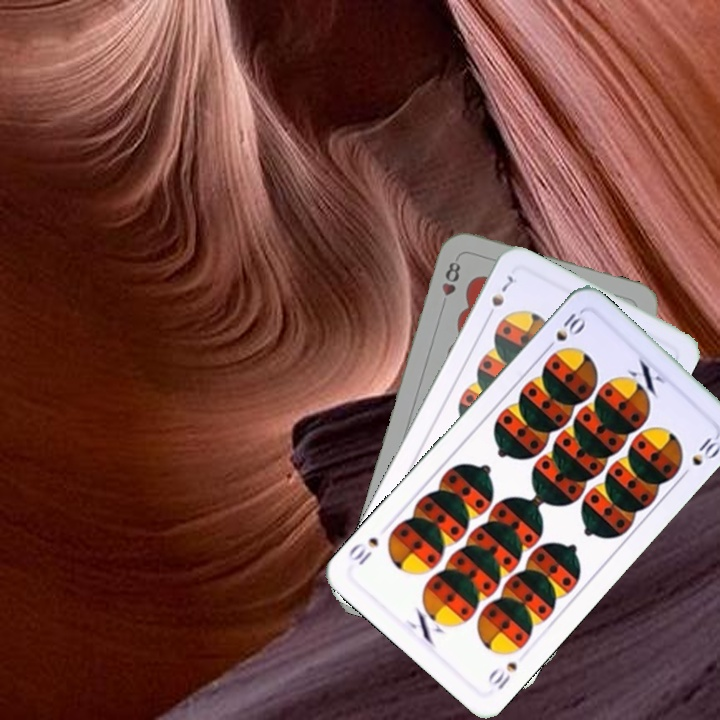H8: (437, 257, 464, 299)
S10: (540, 307, 589, 355), (484, 657, 520, 693)
S7: (482, 271, 516, 323)
